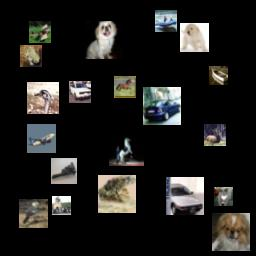airplane: (27, 124, 56, 153), (51, 158, 77, 184), (29, 21, 51, 43)
automobile: (166, 177, 204, 215), (143, 87, 181, 125), (69, 81, 91, 103)
bird: (27, 82, 59, 114), (19, 199, 48, 228)
cat: (214, 187, 233, 206)
deer: (204, 124, 226, 146)
dog: (85, 21, 123, 59), (212, 213, 250, 251), (180, 23, 209, 52)
frog: (98, 175, 136, 213), (20, 45, 42, 67)
ship: (155, 10, 177, 32), (209, 66, 228, 85)
truck: (52, 196, 71, 215)
